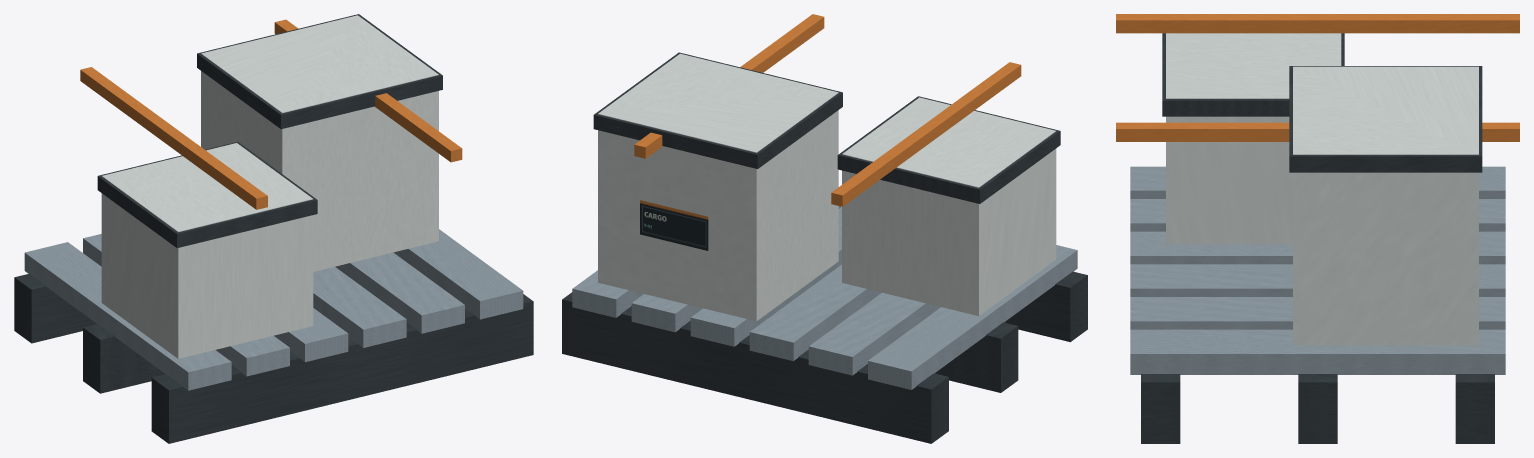
File: equipment_pallet.glb
The picture shows the model from 3 angles, left to right: view 1: azimuth 30°, elevation 25°; view 2: azimuth 150°, elevation 25°; view 3: azimuth 270°, elevation 25°; orthographic projection. The views are drawn at different scales.
Parts seen in each view (by area): view 1: packed_boxes_ceramic, pallet_runners_graphite, pallet_deck_steel, packed_lid_graphite, cargo_straps_orange; view 2: packed_boxes_ceramic, pallet_runners_graphite, pallet_deck_steel, packed_lid_graphite, cargo_straps_orange, pallet_label_LABEL_CARGO; view 3: packed_boxes_ceramic, pallet_deck_steel, cargo_straps_orange, pallet_runners_graphite, packed_lid_graphite.
Part boxes in pixels (left/top/right/bottom): packed_boxes_ceramic: left=101, top=15, right=438, bottom=358; pallet_runners_graphite: left=14, top=273, right=533, bottom=443; pallet_deck_steel: left=24, top=229, right=523, bottom=390; packed_lid_graphite: left=97, top=14, right=442, bottom=248; cargo_straps_orange: left=80, top=19, right=462, bottom=209; packed_boxes_ceramic: left=598, top=53, right=1056, bottom=321; pallet_runners_graphite: left=562, top=271, right=1087, bottom=443; pallet_deck_steel: left=572, top=206, right=1077, bottom=389; packed_lid_graphite: left=593, top=52, right=1060, bottom=203; cargo_straps_orange: left=634, top=14, right=1021, bottom=206; pallet_label_LABEL_CARGO: left=640, top=200, right=708, bottom=250; packed_boxes_ceramic: left=1166, top=33, right=1478, bottom=345; pallet_deck_steel: left=1130, top=166, right=1505, bottom=374; cargo_straps_orange: left=1116, top=14, right=1519, bottom=141; pallet_runners_graphite: left=1141, top=374, right=1494, bottom=443; packed_lid_graphite: left=1162, top=33, right=1482, bottom=172.
Bounding box in the file's own units: 1.35 × 0.845 × 1.13.
5 materials, 5 textured.
